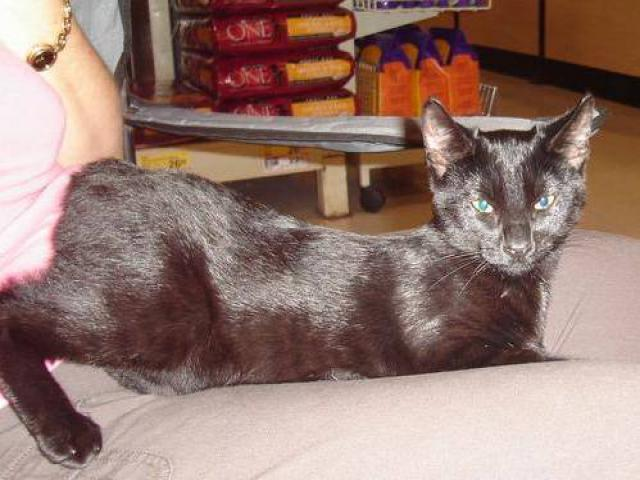cat: (6, 89, 619, 457)
